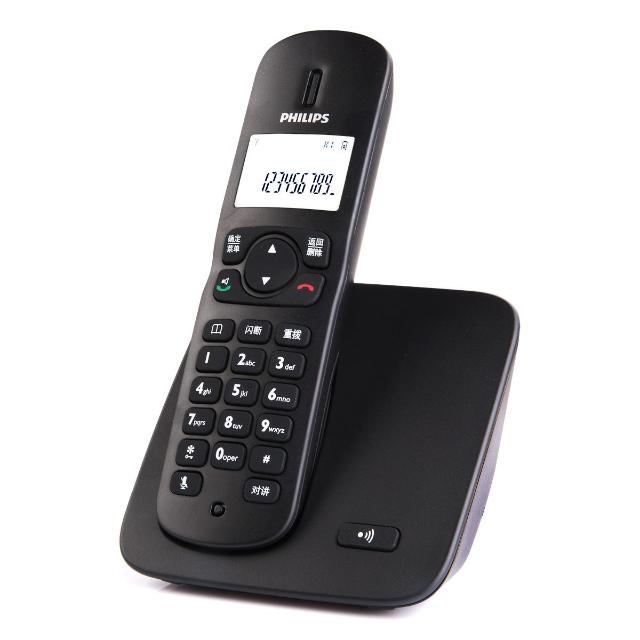Telephone-Set: (121, 4, 517, 602)
